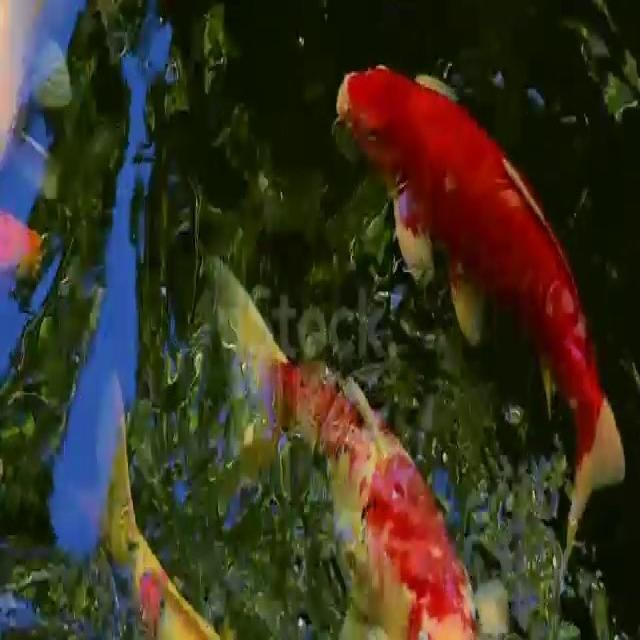fish: (334, 34, 640, 525), (208, 264, 490, 640), (84, 373, 220, 640)
